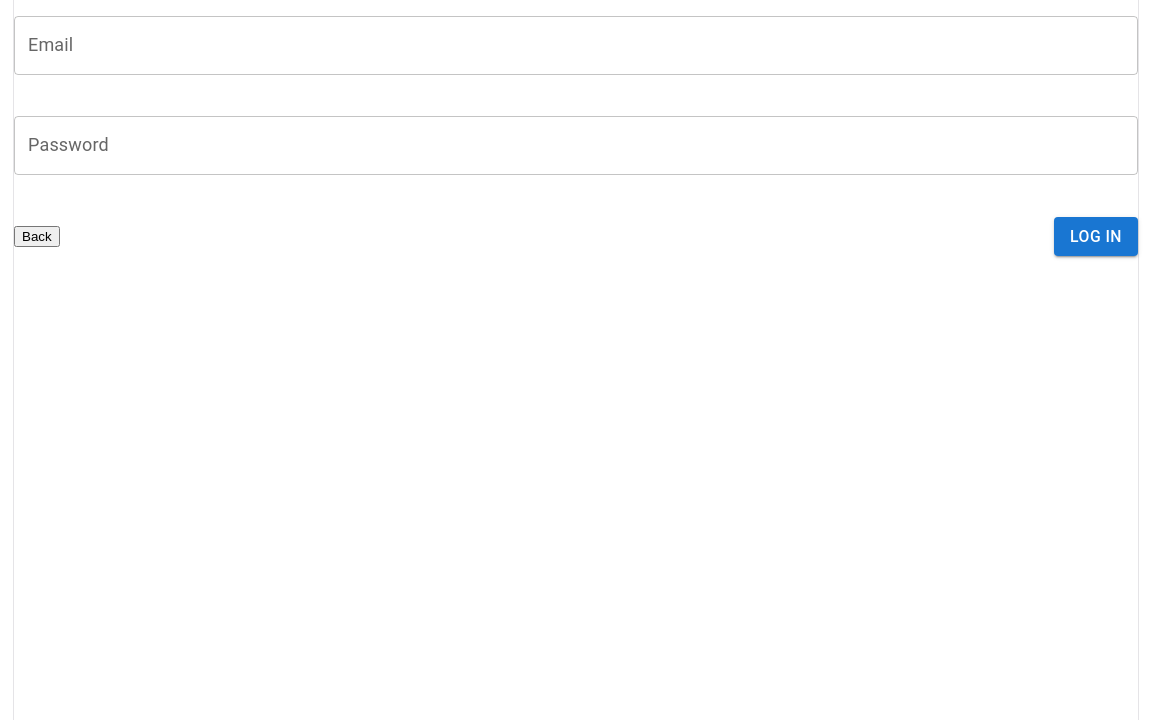
LoginForm › shows an error and does not navigate when no account matches
In the field labelled "Email": (576, 45) [14,16,1138,75], type "jane@example.com"
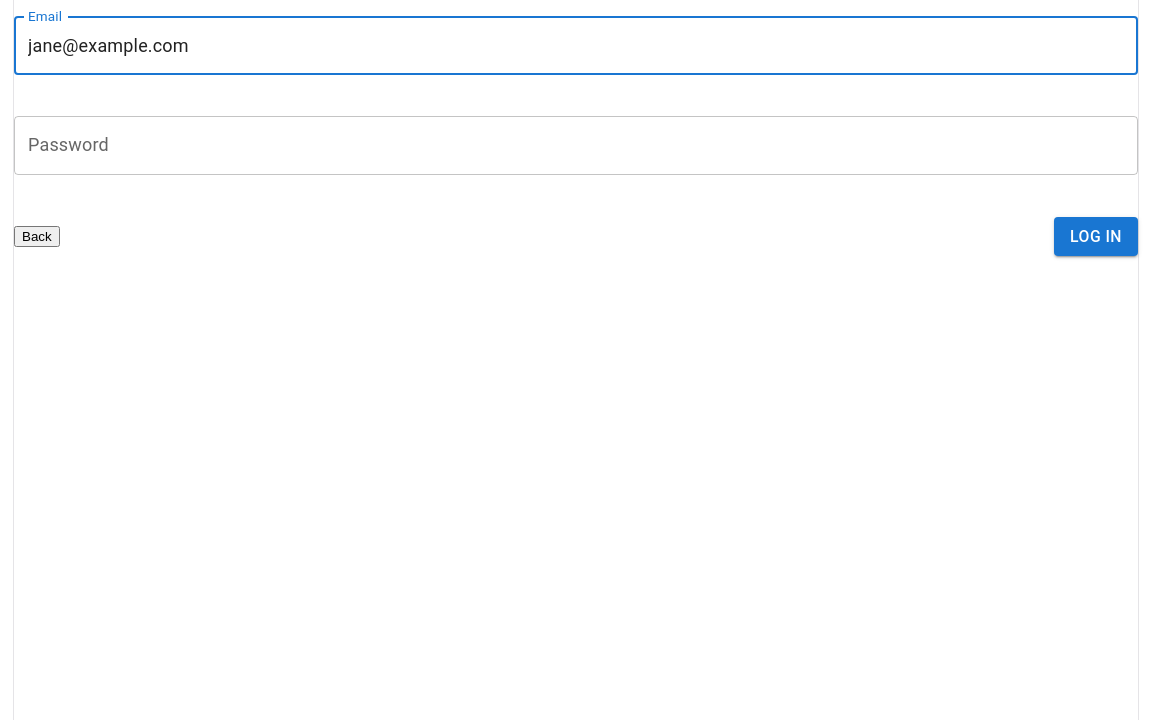
In the password field labelled "Password": (576, 146) [14,116,1138,175], type "secret123"
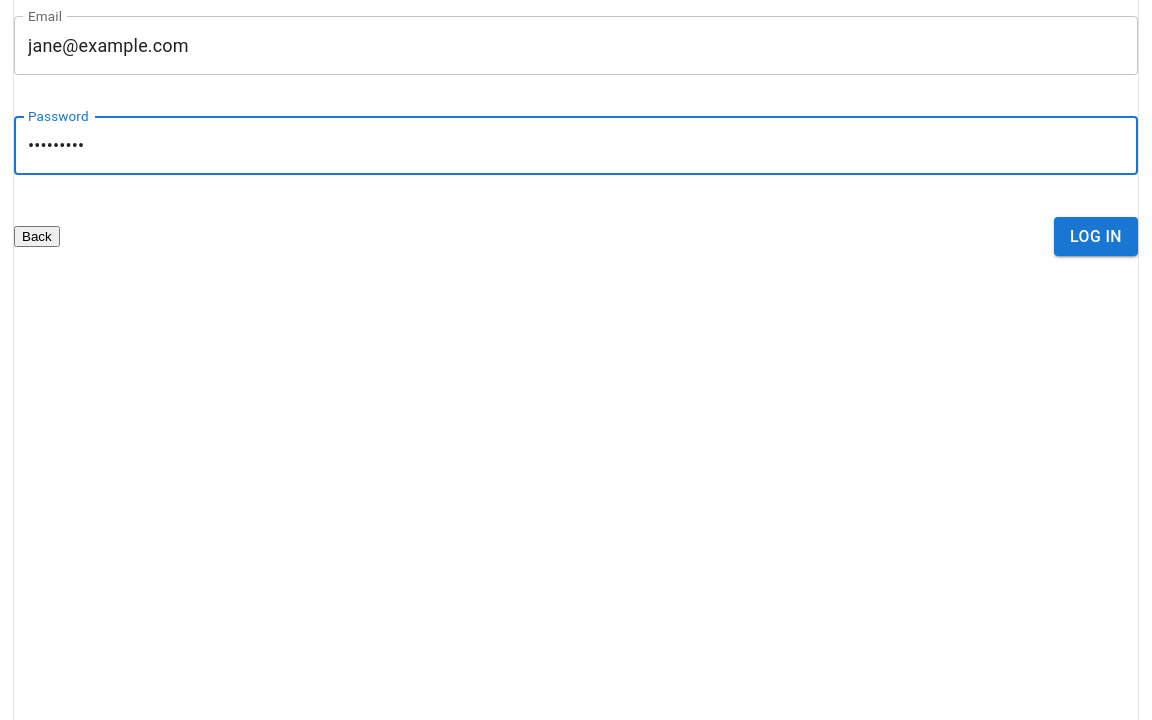
Click the button "Log In": (1096, 236) [1054,217,1138,256]
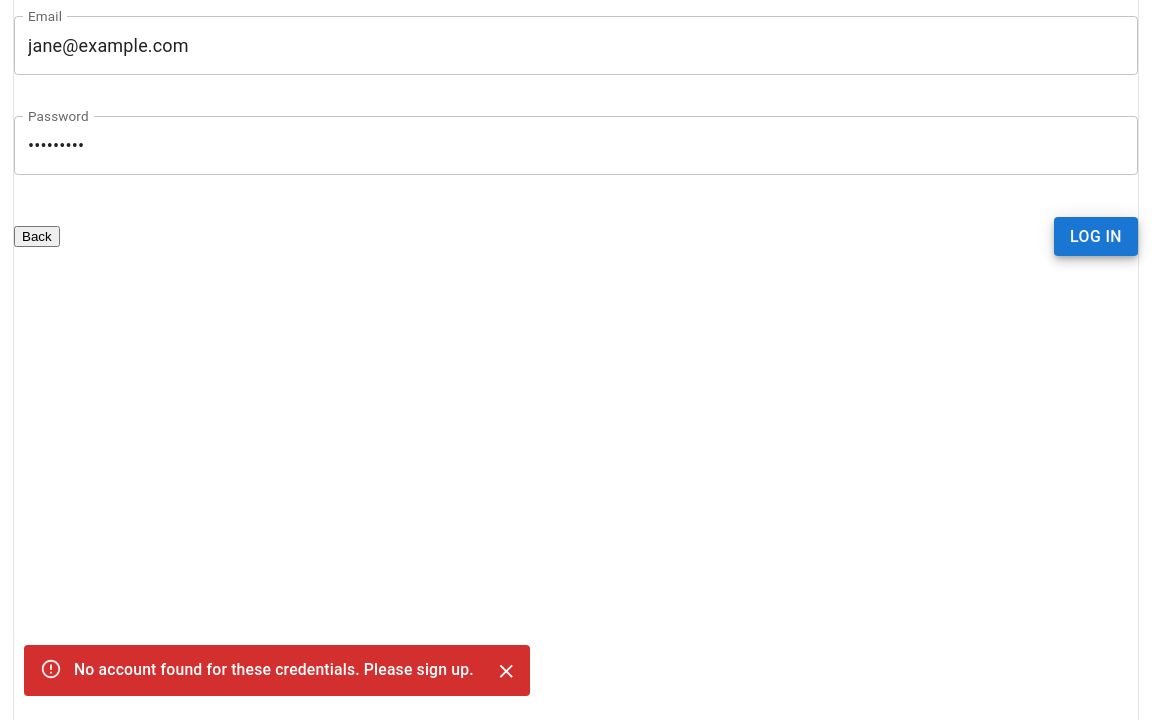
Expected: the text "No account found for these credentials. Please sign up." is shown, [74,660,474,680]
